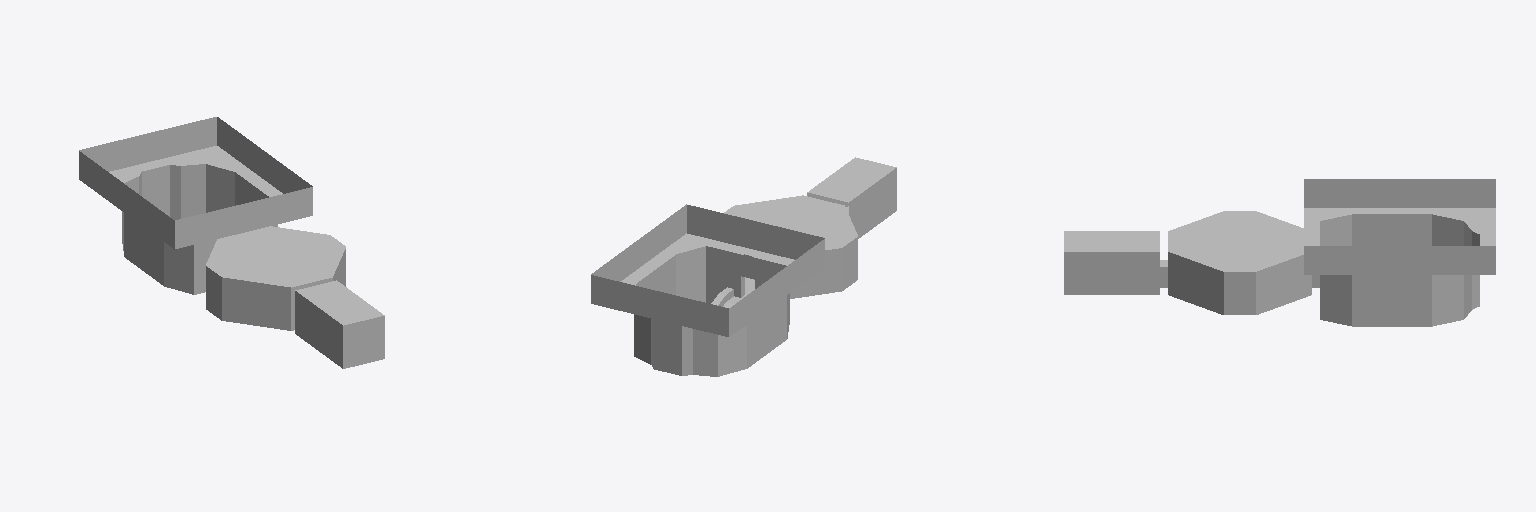
Rendered from floor1level1rev2.obj.
The picture shows the model from 3 angles: view 1: azimuth 30°, elevation 25°; view 2: azimuth 150°, elevation 25°; view 3: azimuth 270°, elevation 25°; orthographic projection.
Parts seen in each view (by area): view 1: mesh_68_Collection_materials/courtyardpillars.vmat.013#SFX_2, mesh_68_Collection_materials/insidewalls.vmat.005#SFX_2#WALLPROP, mesh_97_Collection_materials/courtyardbackroundtrees.vmat.007#No, mesh_70_Collection_materials/insidewalls.vmat.003#SFX_2#WALLPROP, mesh_95_Collection_materials/courtyardbackroundtrees.vmat.006#No, mesh_89_Collection_materials/courtyardbackroundtrees.vmat.005#No, mesh_50_Collection_materials/courtyardwalls.vmat.001#SFX_2#WALLP, mesh_54_Collection_materials/courtyardwalls.vmat.002#SFX_2#WALLP, mesh_90_Collection_materials/courtyardbackroundtrees.vmat.004#No, mesh_70_Collection_materials/courtyardpillars.vmat.011#SFX_2, mesh_49_Collection_materials/courtyardwalls.vmat#SFX_2#WALLPROPE, mesh_55_Collection_materials/courtyardwalls.vmat.003#SFX_2#WALLP (+2 smaller); view 2: mesh_95_Collection_materials/courtyardbackroundtrees.vmat.006#No, mesh_68_Collection_materials/courtyardpillars.vmat.013#SFX_2, mesh_97_Collection_materials/courtyardbackroundtrees.vmat.007#No, mesh_50_Collection_materials/courtyardwalls.vmat.001#SFX_2#WALLP, mesh_89_Collection_materials/courtyardbackroundtrees.vmat.005#No, mesh_54_Collection_materials/courtyardwalls.vmat.002#SFX_2#WALLP, mesh_90_Collection_materials/courtyardbackroundtrees.vmat.004#No, mesh_70_Collection_materials/insidewalls.vmat.003#SFX_2#WALLPROP, mesh_49_Collection_materials/courtyardwalls.vmat#SFX_2#WALLPROPE, mesh_68_Collection_materials/insidewalls.vmat.005#SFX_2#WALLPROP, mesh_70_Collection_materials/courtyardpillars.vmat.011#SFX_2, mesh_55_Collection_materials/courtyardvariedwhitebricks.vmat#SFX (+2 smaller); view 3: mesh_54_Collection_materials/courtyardwalls.vmat.002#SFX_2#WALLP, mesh_68_Collection_materials/courtyardpillars.vmat.013#SFX_2, mesh_68_Collection_materials/insidewalls.vmat.005#SFX_2#WALLPROP, mesh_90_Collection_materials/courtyardbackroundtrees.vmat.004#No, mesh_89_Collection_materials/courtyardbackroundtrees.vmat.005#No, mesh_70_Collection_materials/insidewalls.vmat.003#SFX_2#WALLPROP, mesh_50_Collection_materials/courtyardwalls.vmat.001#SFX_2#WALLP, mesh_55_Collection_materials/courtyardwalls.vmat.003#SFX_2#WALLP, mesh_70_Collection_materials/courtyardpillars.vmat.011#SFX_2, mesh_81_Collection_materials/courtyardgrass.vmat.022#NoCollision, mesh_84_Collection_materials/courtyardgrass.vmat.020#NoCollision.
Boxes of the visible parts, x1=… form: mesh_68_Collection_materials/courtyardpillars.vmat.013#SFX_2: x1=206, y1=226, x2=345, y2=287; mesh_68_Collection_materials/insidewalls.vmat.005#SFX_2#WALLPROP: x1=206, y1=249, x2=345, y2=330; mesh_97_Collection_materials/courtyardbackroundtrees.vmat.007#No: x1=175, y1=187, x2=312, y2=248; mesh_70_Collection_materials/insidewalls.vmat.003#SFX_2#WALLPROP: x1=295, y1=291, x2=384, y2=368; mesh_95_Collection_materials/courtyardbackroundtrees.vmat.006#No: x1=79, y1=117, x2=216, y2=171; mesh_89_Collection_materials/courtyardbackroundtrees.vmat.005#No: x1=79, y1=151, x2=174, y2=249; mesh_50_Collection_materials/courtyardwalls.vmat.001#SFX_2#WALLP: x1=122, y1=164, x2=234, y2=250; mesh_54_Collection_materials/courtyardwalls.vmat.002#SFX_2#WALLP: x1=124, y1=172, x2=268, y2=285; mesh_90_Collection_materials/courtyardbackroundtrees.vmat.004#No: x1=217, y1=117, x2=312, y2=193; mesh_70_Collection_materials/courtyardpillars.vmat.011#SFX_2: x1=295, y1=280, x2=384, y2=325; mesh_49_Collection_materials/courtyardwalls.vmat#SFX_2#WALLPROPE: x1=139, y1=165, x2=180, y2=219; mesh_55_Collection_materials/courtyardwalls.vmat.003#SFX_2#WALLP: x1=164, y1=242, x2=193, y2=294; mesh_95_Collection_materials/courtyardbackroundtrees.vmat.006#No: x1=591, y1=275, x2=728, y2=336; mesh_68_Collection_materials/courtyardpillars.vmat.013#SFX_2: x1=724, y1=195, x2=857, y2=257; mesh_97_Collection_materials/courtyardbackroundtrees.vmat.007#No: x1=687, y1=205, x2=824, y2=259; mesh_50_Collection_materials/courtyardwalls.vmat.001#SFX_2#WALLP: x1=634, y1=314, x2=746, y2=376; mesh_89_Collection_materials/courtyardbackroundtrees.vmat.005#No: x1=729, y1=239, x2=824, y2=336; mesh_54_Collection_materials/courtyardwalls.vmat.002#SFX_2#WALLP: x1=636, y1=255, x2=786, y2=368; mesh_90_Collection_materials/courtyardbackroundtrees.vmat.004#No: x1=591, y1=204, x2=686, y2=281; mesh_70_Collection_materials/insidewalls.vmat.003#SFX_2#WALLPROP: x1=807, y1=168, x2=896, y2=238; mesh_49_Collection_materials/courtyardwalls.vmat#SFX_2#WALLPROPE: x1=651, y1=319, x2=692, y2=375; mesh_68_Collection_materials/insidewalls.vmat.005#SFX_2#WALLPROP: x1=790, y1=237, x2=857, y2=298; mesh_70_Collection_materials/courtyardpillars.vmat.011#SFX_2: x1=807, y1=157, x2=896, y2=202; mesh_55_Collection_materials/courtyardvariedwhitebricks.vmat#SFX: x1=713, y1=248, x2=782, y2=300; mesh_54_Collection_materials/courtyardwalls.vmat.002#SFX_2#WALLP: x1=1352, y1=214, x2=1431, y2=326; mesh_68_Collection_materials/courtyardpillars.vmat.013#SFX_2: x1=1168, y1=211, x2=1311, y2=271; mesh_68_Collection_materials/insidewalls.vmat.005#SFX_2#WALLPROP: x1=1168, y1=252, x2=1311, y2=314; mesh_90_Collection_materials/courtyardbackroundtrees.vmat.004#No: x1=1304, y1=246, x2=1495, y2=274; mesh_89_Collection_materials/courtyardbackroundtrees.vmat.005#No: x1=1304, y1=179, x2=1495, y2=207; mesh_70_Collection_materials/insidewalls.vmat.003#SFX_2#WALLPROP: x1=1064, y1=252, x2=1159, y2=294; mesh_50_Collection_materials/courtyardwalls.vmat.001#SFX_2#WALLP: x1=1432, y1=214, x2=1471, y2=326; mesh_55_Collection_materials/courtyardwalls.vmat.003#SFX_2#WALLP: x1=1320, y1=215, x2=1351, y2=325; mesh_70_Collection_materials/courtyardpillars.vmat.011#SFX_2: x1=1064, y1=231, x2=1159, y2=251; mesh_81_Collection_materials/courtyardgrass.vmat.022#NoCollision: x1=1320, y1=208, x2=1479, y2=213; mesh_84_Collection_materials/courtyardgrass.vmat.020#NoCollision: x1=1480, y1=208, x2=1495, y2=245.
Size of the model in its own units: 12.8 by 7.68 by 34.56.